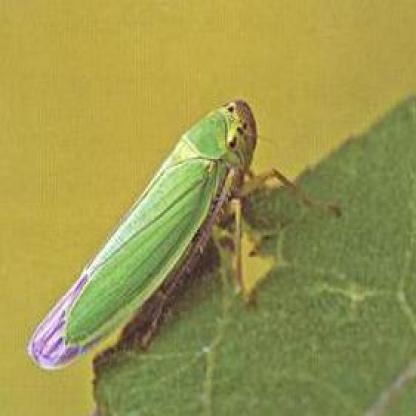Green-Leafhopper: (23, 99, 345, 374)
